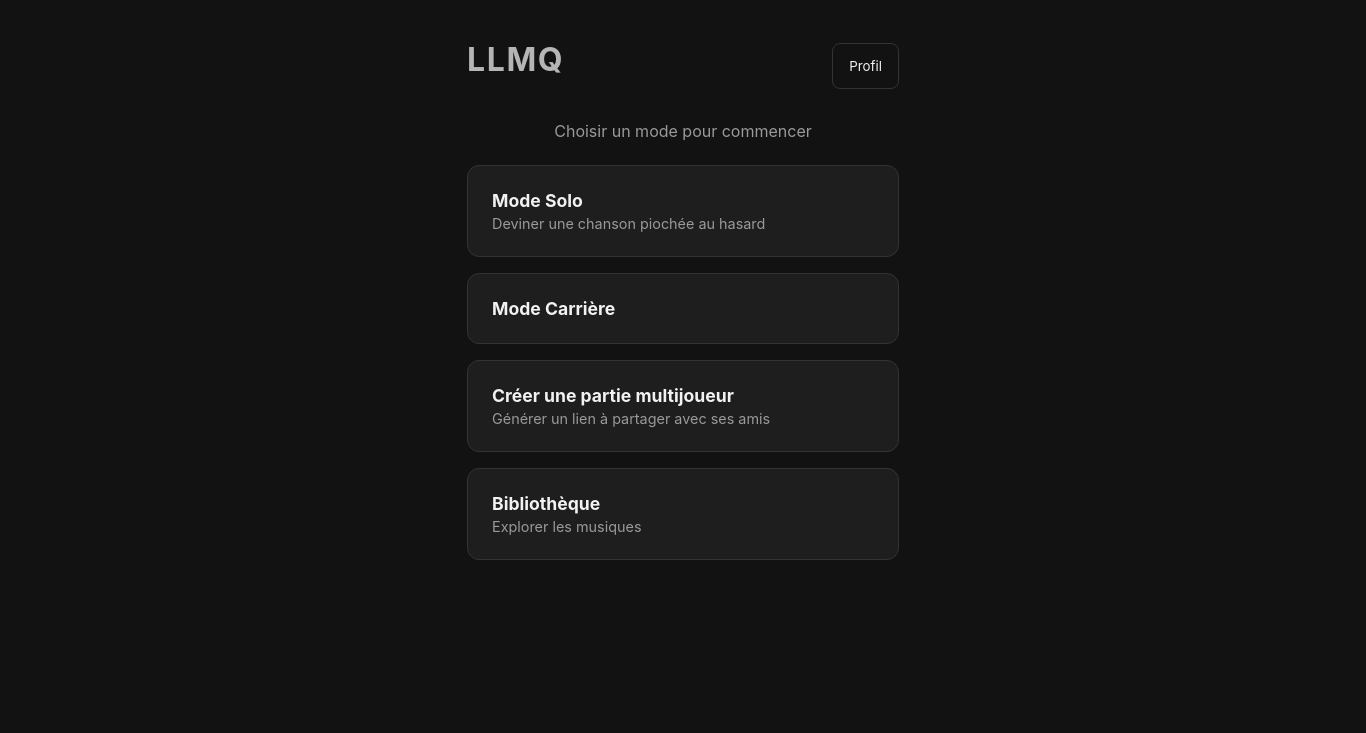
Test: App — Mode Carrière › the guessing screen of a release round is titled Album
Click the button "Mode Carrière": (554,308) [467,273,899,344]
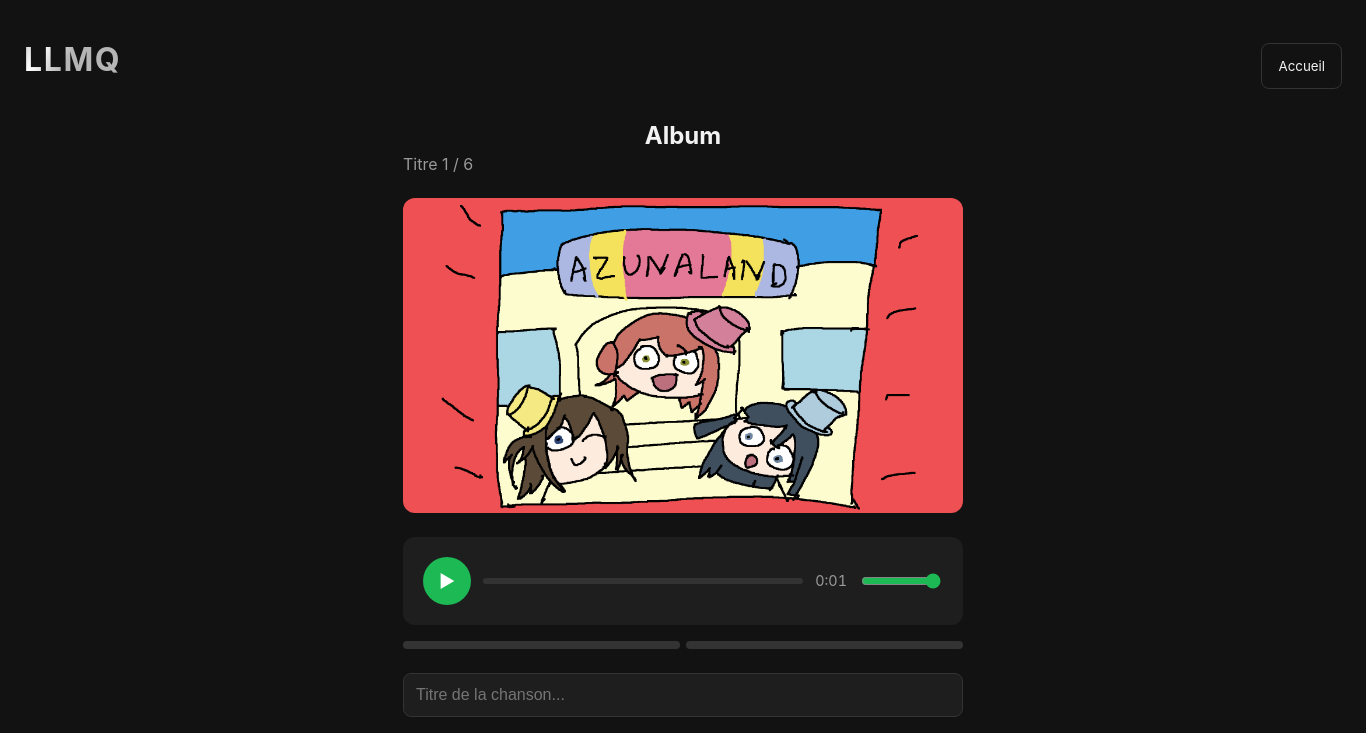
Expected: the heading "Album" is shown, [645,121,721,150]
